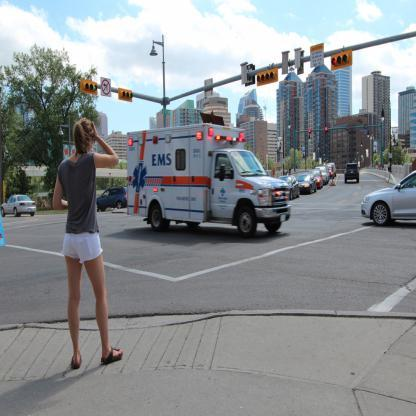truck: (127, 123, 291, 237)
